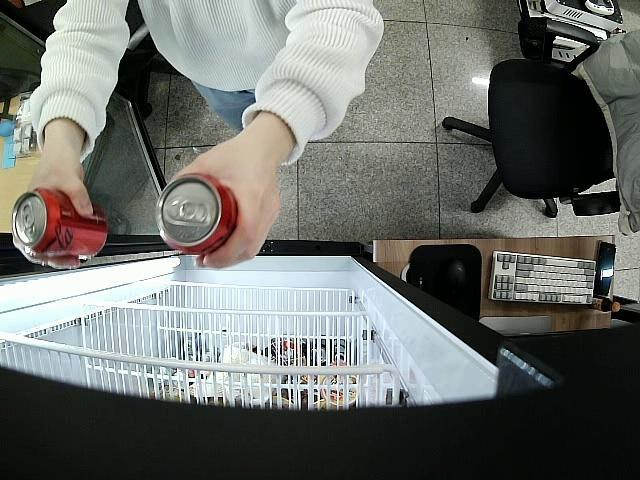11_cocaColaZero: (157, 172, 240, 255), (10, 188, 109, 257)
